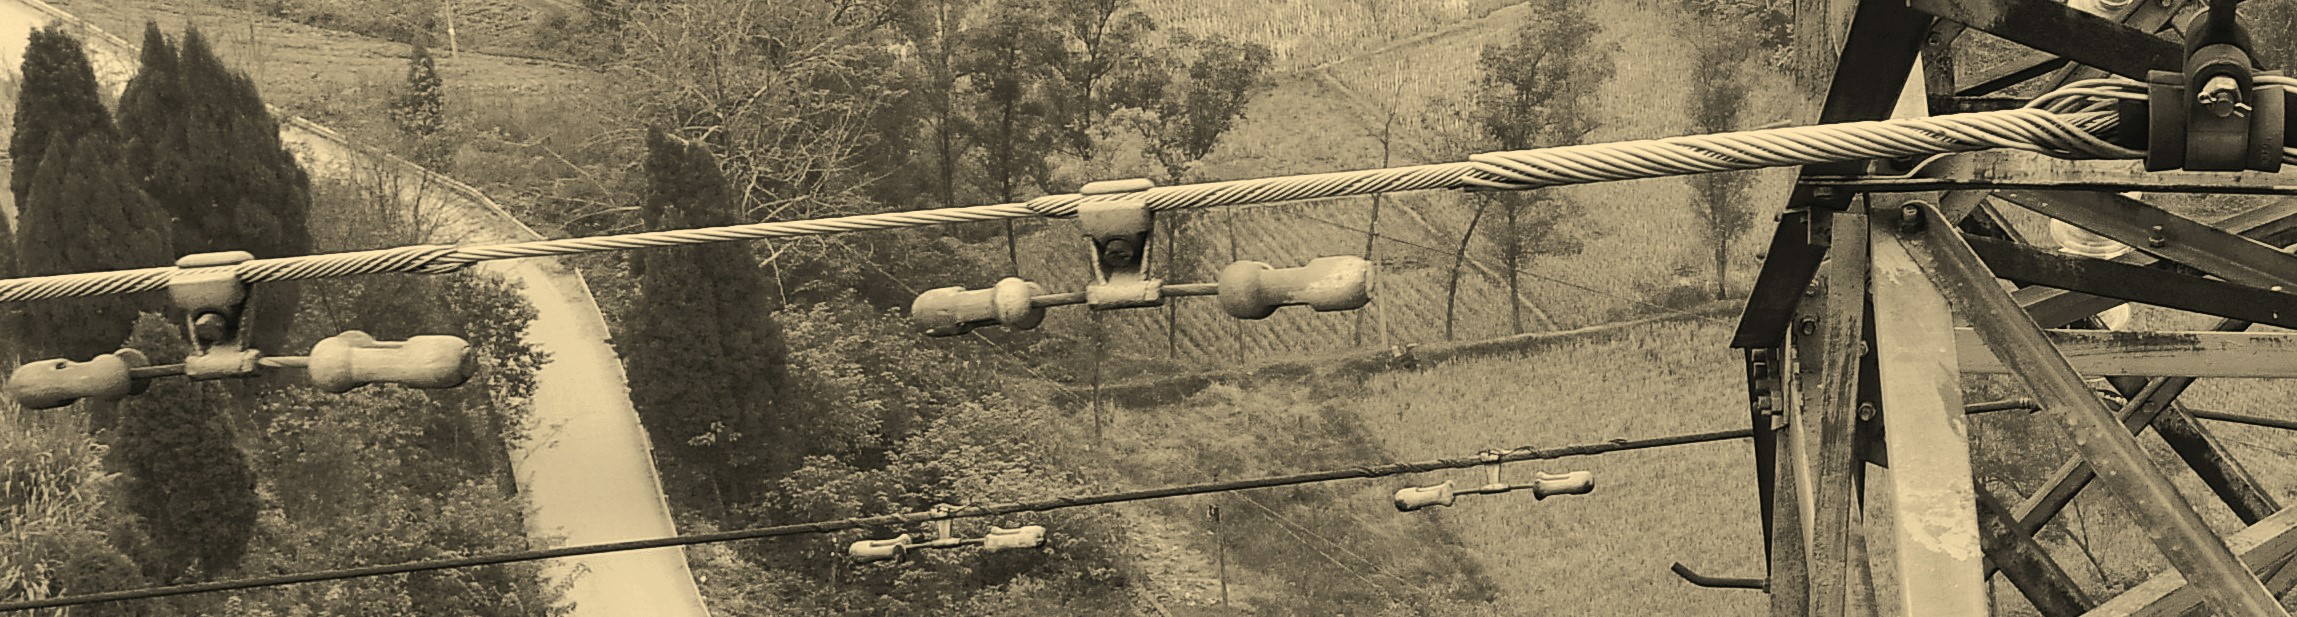Shockproof hammer: (904, 147, 1386, 346), (1, 233, 483, 419), (1384, 434, 1604, 519), (845, 489, 1058, 576)
